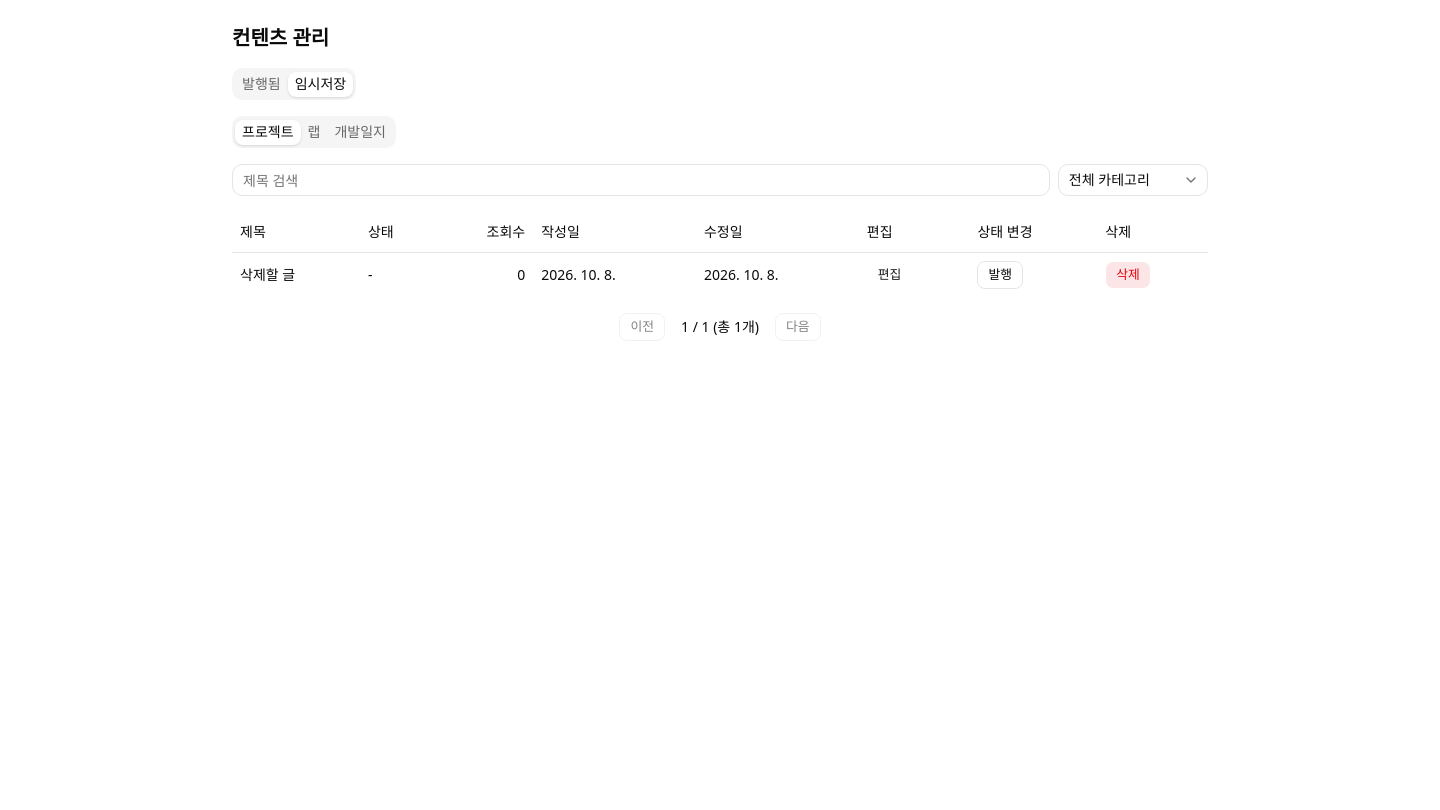
PostListPage 글 삭제 통합 (실제 apiDelete) › DELETE가 401이면 토큰을 지우고 현재 화면 경로로 재로그인을 한 번 시작하며 DELETE는 한 번만 전송돼야 한다
The width and height of the screenshot is (1440, 810).
Click the button "삭제" at (1128, 274), box top-left (1105, 260), bottom-right (1151, 288)
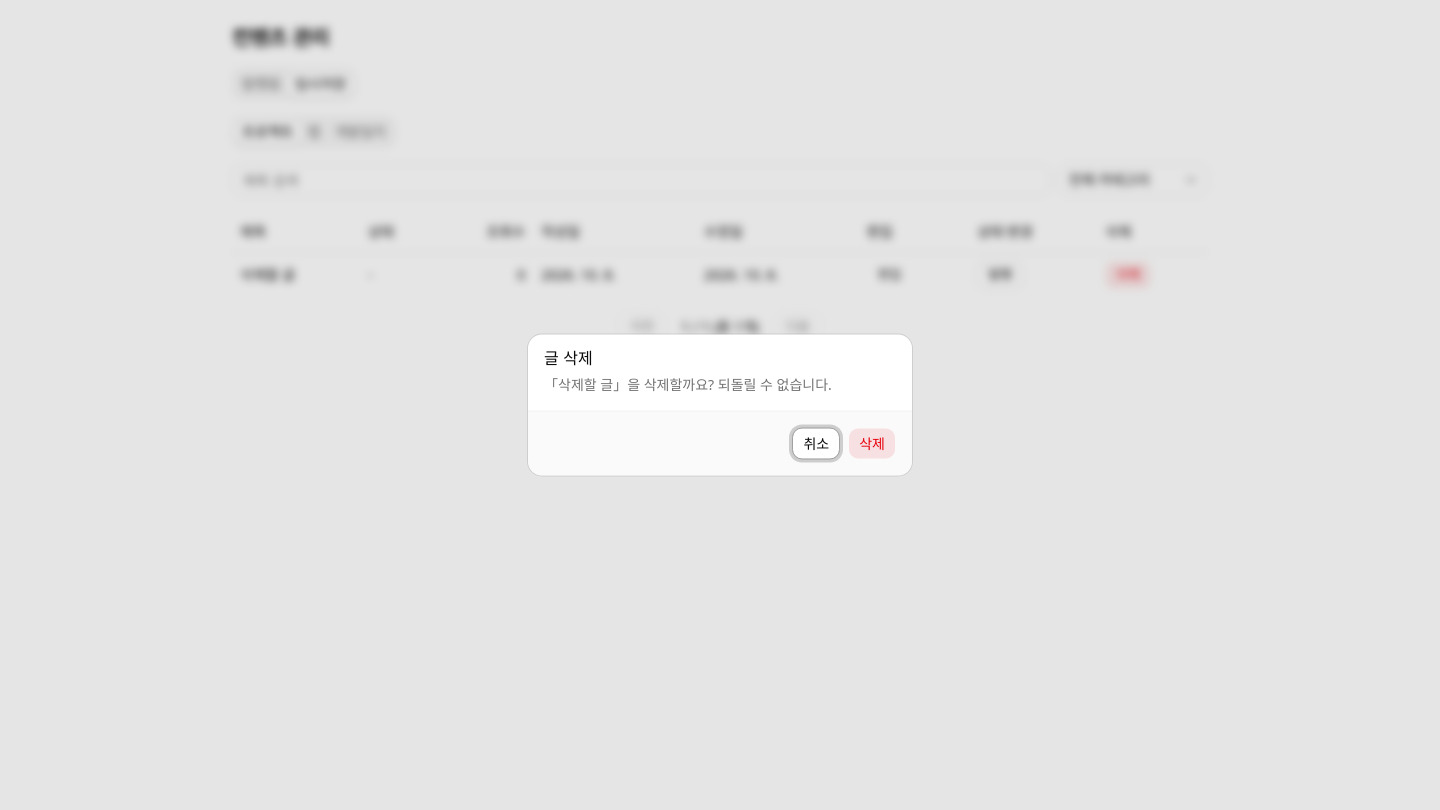
Click the button "삭제" at (872, 444), box top-left (848, 428), bottom-right (896, 460)
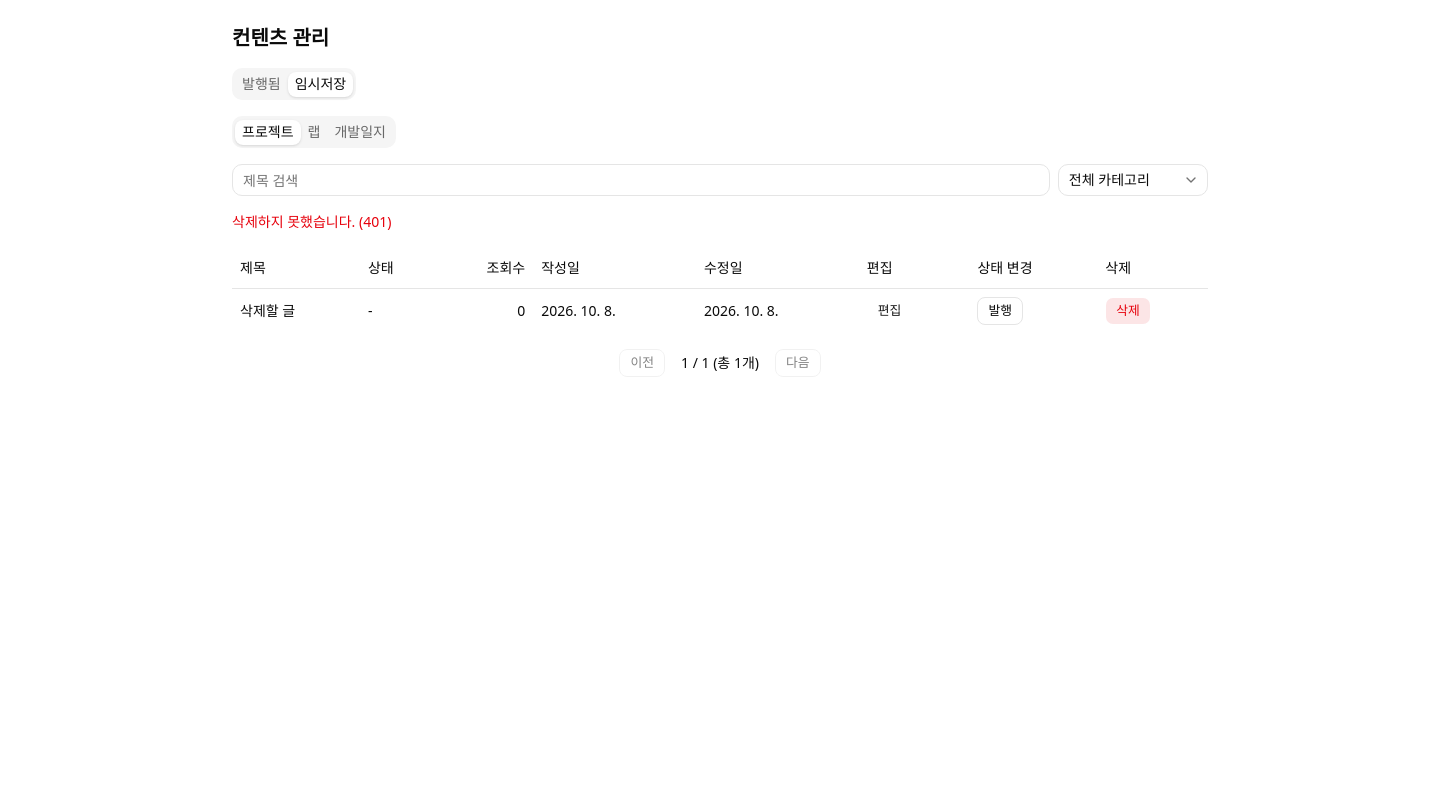
Now the message "삭제하지 못했습니다. (401)" is shown, box top-left (232, 212), bottom-right (391, 231)
